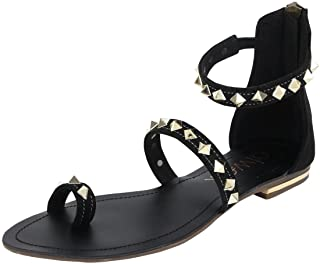shoes: (1, 1, 320, 263)
